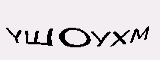М: (129, 25, 150, 44)
О: (57, 27, 91, 48)
У: (90, 30, 111, 48)
Х: (109, 28, 130, 47)
Ш: (25, 27, 55, 46)
Ү: (6, 27, 22, 45)
